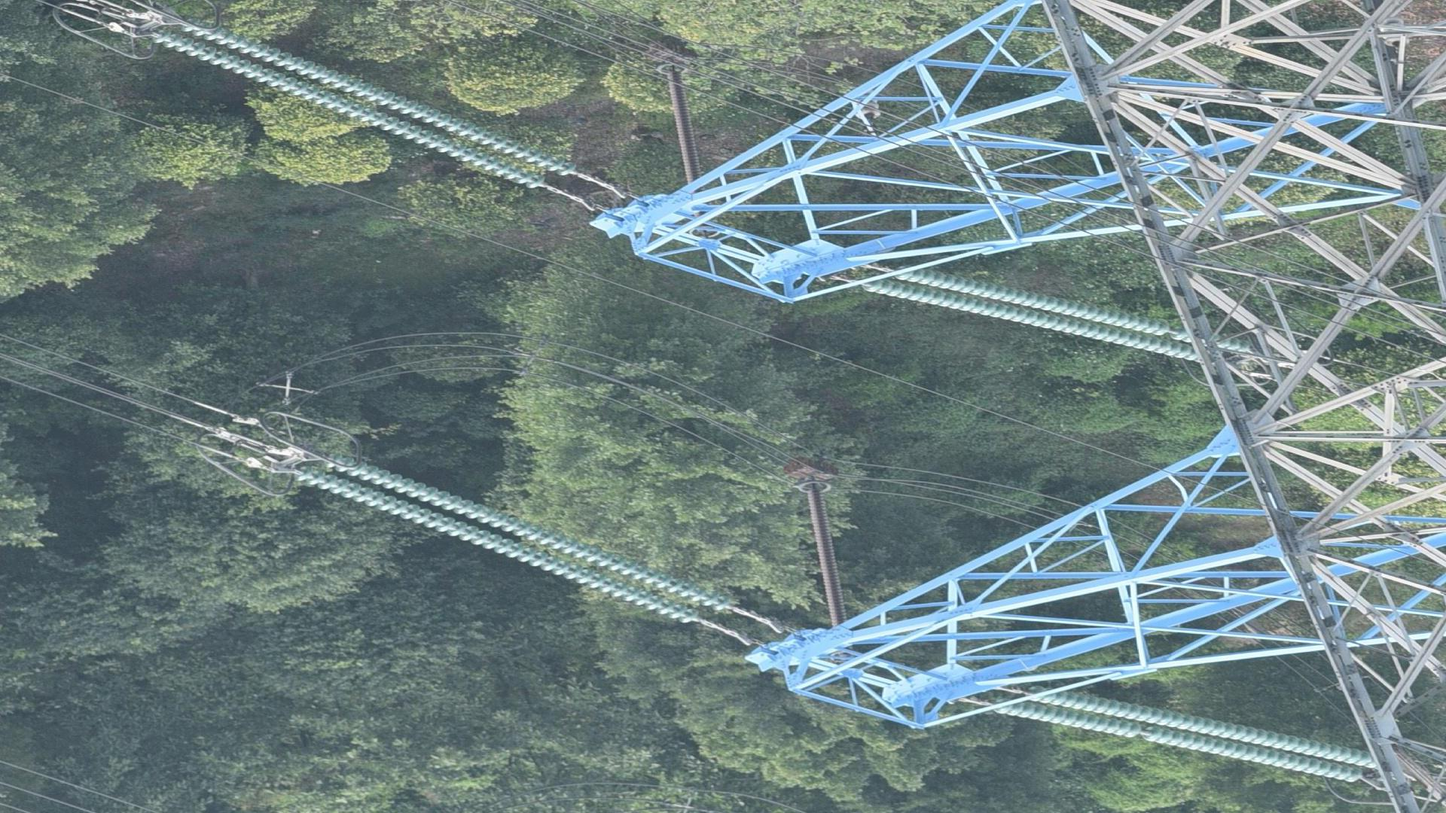insulator: (292, 447, 735, 629), (150, 14, 578, 195), (862, 260, 1252, 371), (991, 684, 1377, 785), (805, 484, 848, 627), (666, 67, 703, 184)
insulator_stringdrop: (1123, 720, 1163, 744), (1154, 317, 1188, 343)
